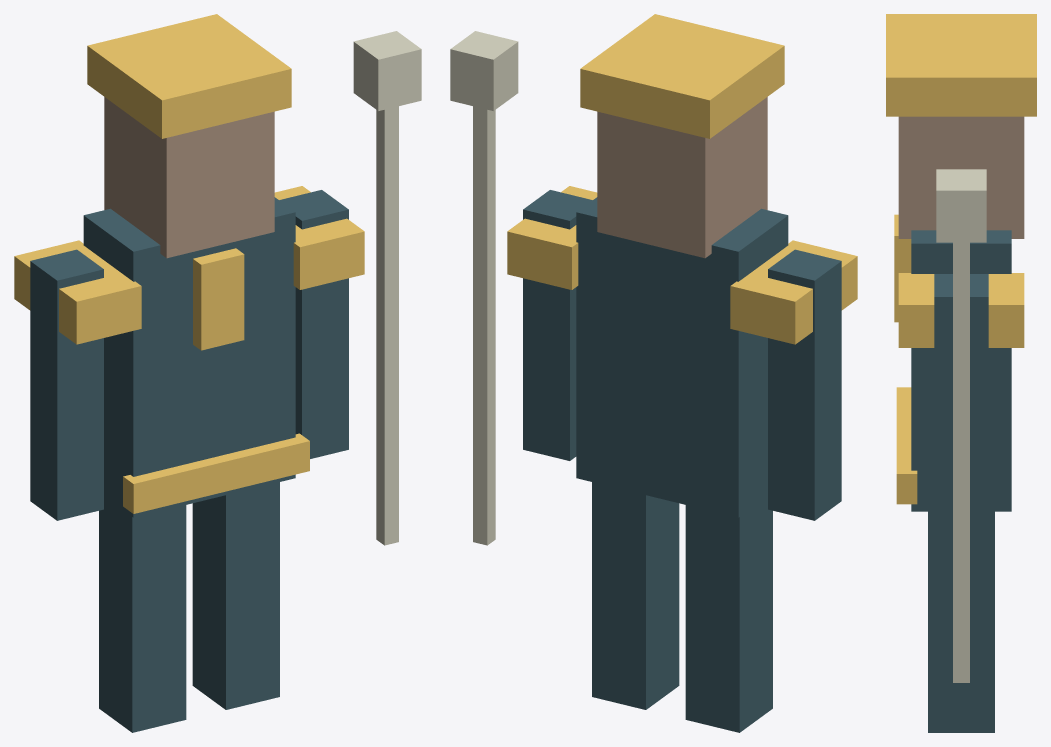
The model's file is 16_ossa_echohand_guide_of_trainers.glb.
3 renders of one model, left to right at view 1: azimuth 30°, elevation 25°; view 2: azimuth 150°, elevation 25°; view 3: azimuth 270°, elevation 25°, orthographic.
Parts seen in each view (by area): view 1: Ossa Echohand, Guide of Trainer's; view 2: Ossa Echohand, Guide of Trainer's; view 3: Ossa Echohand, Guide of Trainer's.
Part boxes in pixels (<box>): Ossa Echohand, Guide of Trainer's: <box>14,14,421,732</box>; Ossa Echohand, Guide of Trainer's: <box>450,14,857,732</box>; Ossa Echohand, Guide of Trainer's: <box>886,14,1036,732</box>.
Bounding box in the file's own units: 0.9584 × 1.62 × 0.3399.
